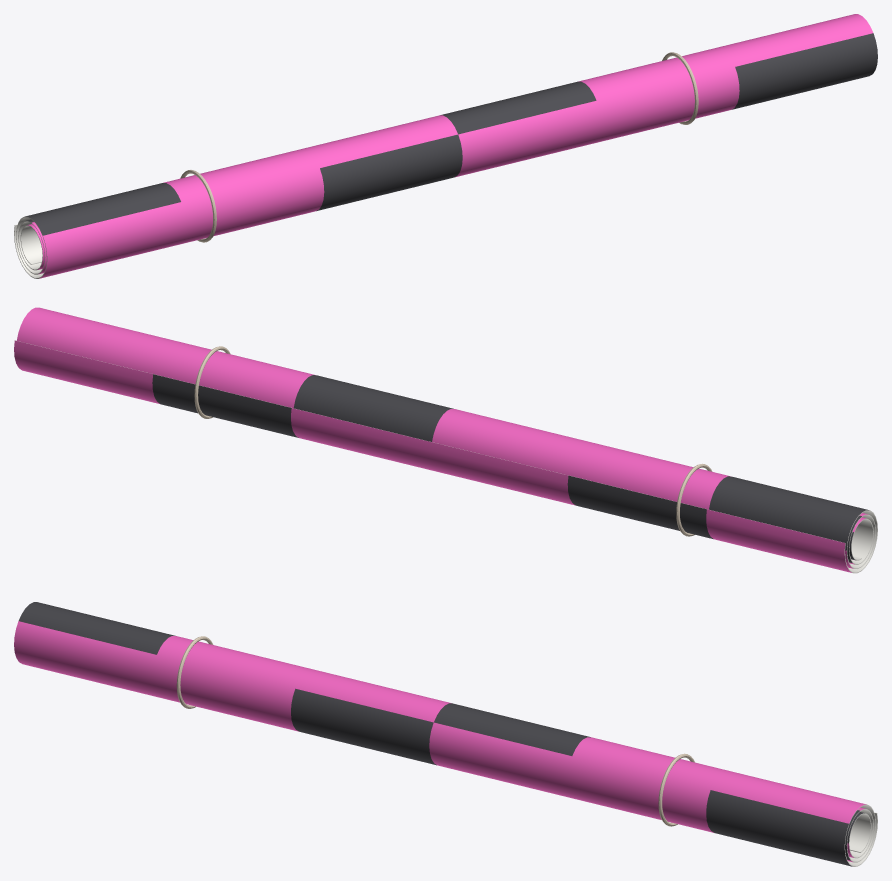
File: paper_sticky_poster_roll.fbx
The picture shows the model from 3 angles, top to bottom: view 1: azimuth 30°, elevation 25°; view 2: azimuth 150°, elevation 25°; view 3: azimuth 330°, elevation 25°; orthographic projection.
Visible parts, largest first — view 1: paper_sticky_poster_roll; view 2: paper_sticky_poster_roll; view 3: paper_sticky_poster_roll.
Part boxes in pixels (x1,y1,x2,y2): paper_sticky_poster_roll: (14,14,877,278); paper_sticky_poster_roll: (14,307,877,573); paper_sticky_poster_roll: (14,602,877,866).
Size of the model in its own units: 0.594 by 0.0462 by 0.0462.
